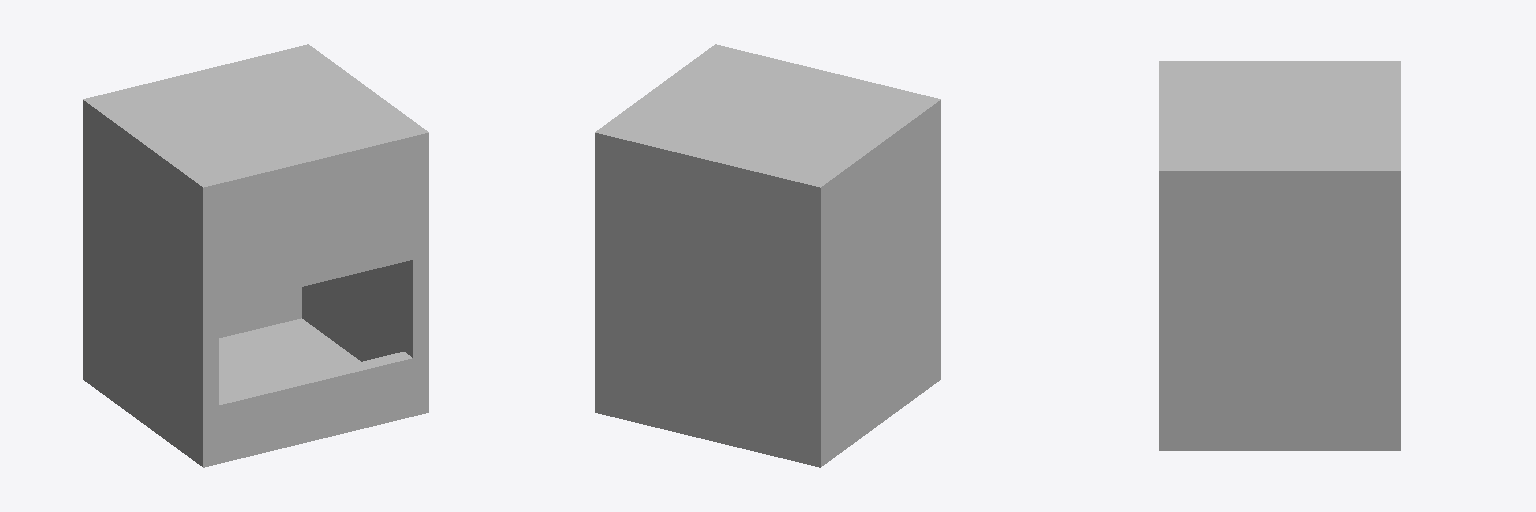
Rendered from hull.obj.
3 views of the same model, side by side, from view 1: azimuth 30°, elevation 25°; view 2: azimuth 150°, elevation 25°; view 3: azimuth 270°, elevation 25° (orthographic).
Parts seen in each view (by area): view 1: Hull_PH; view 2: Hull_PH; view 3: Hull_PH.
Boxes of the visible parts, <box> form: Hull_PH: <box>83,44,428,467</box>; Hull_PH: <box>595,44,940,467</box>; Hull_PH: <box>1159,61,1400,450</box>.
Size of the model in its own units: 14.12 by 16.73 by 13.06.